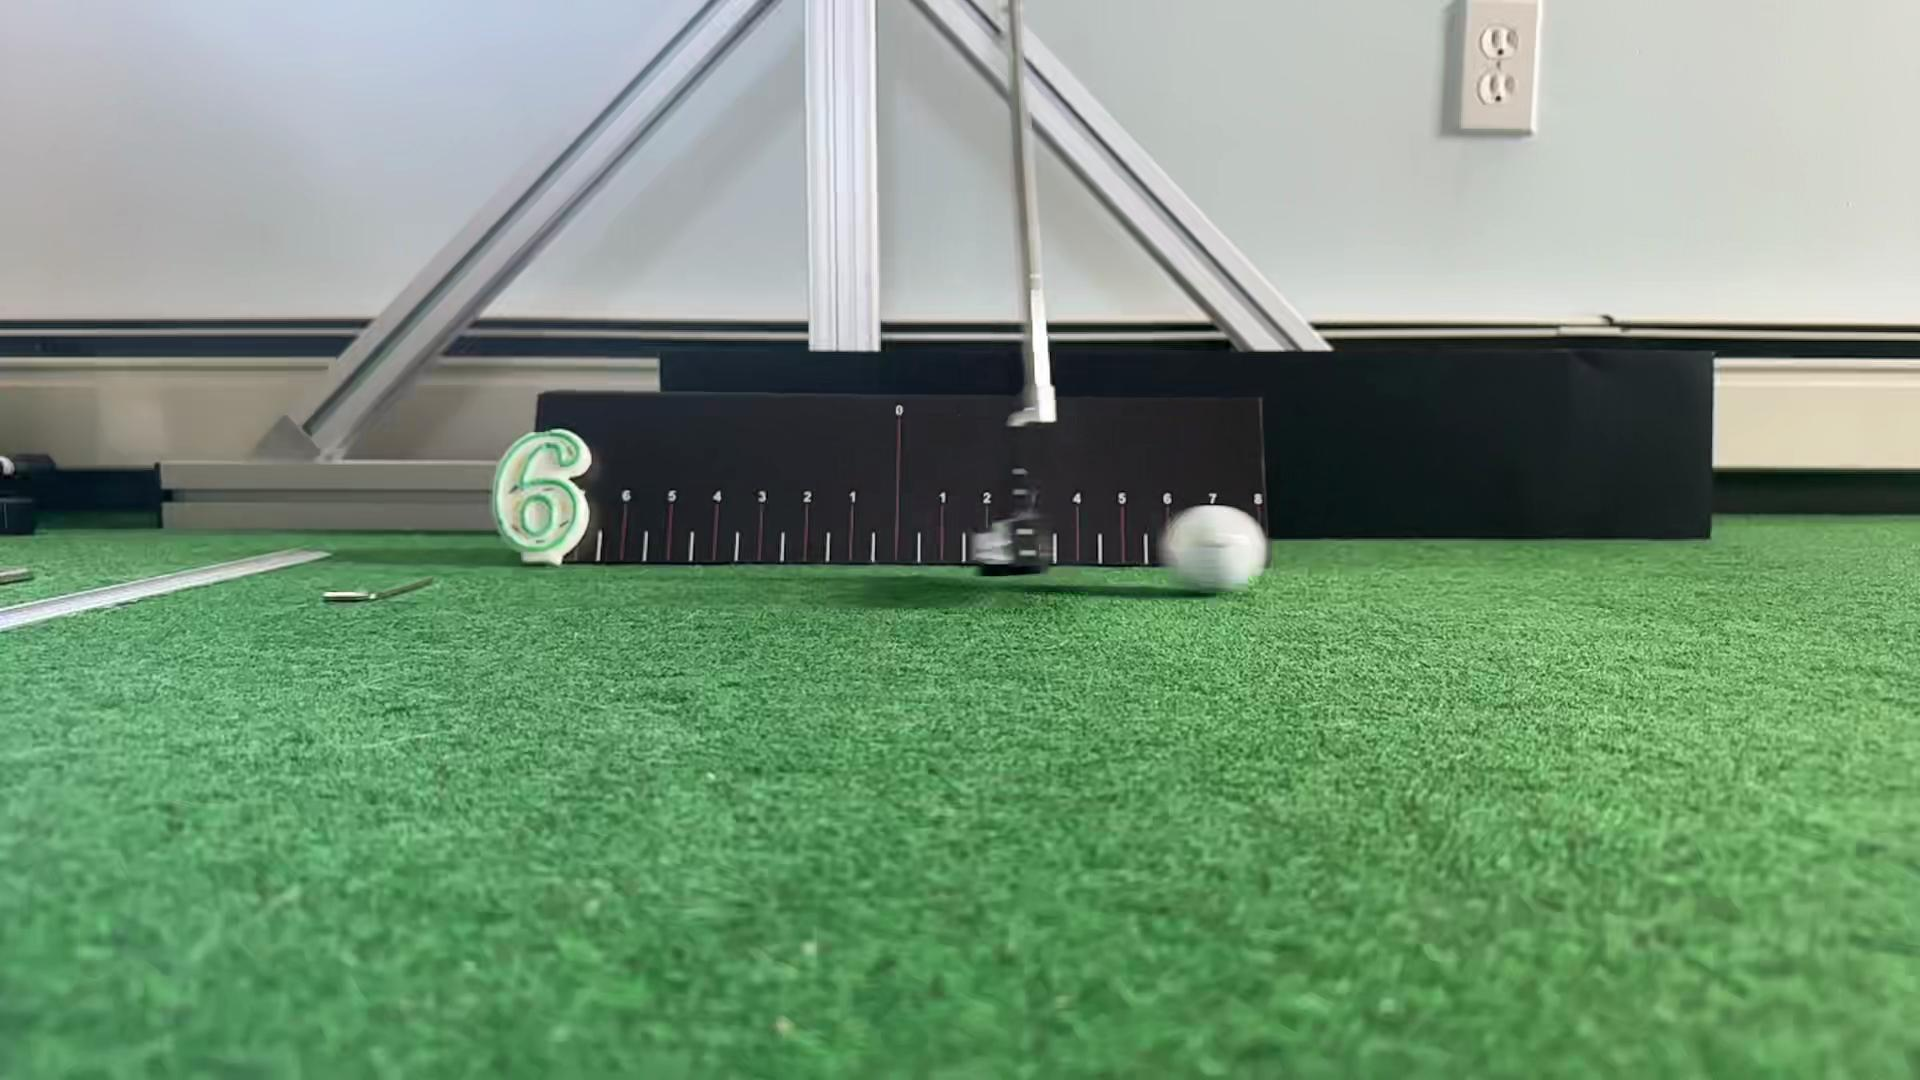golfball: (1165, 506, 1265, 594)
